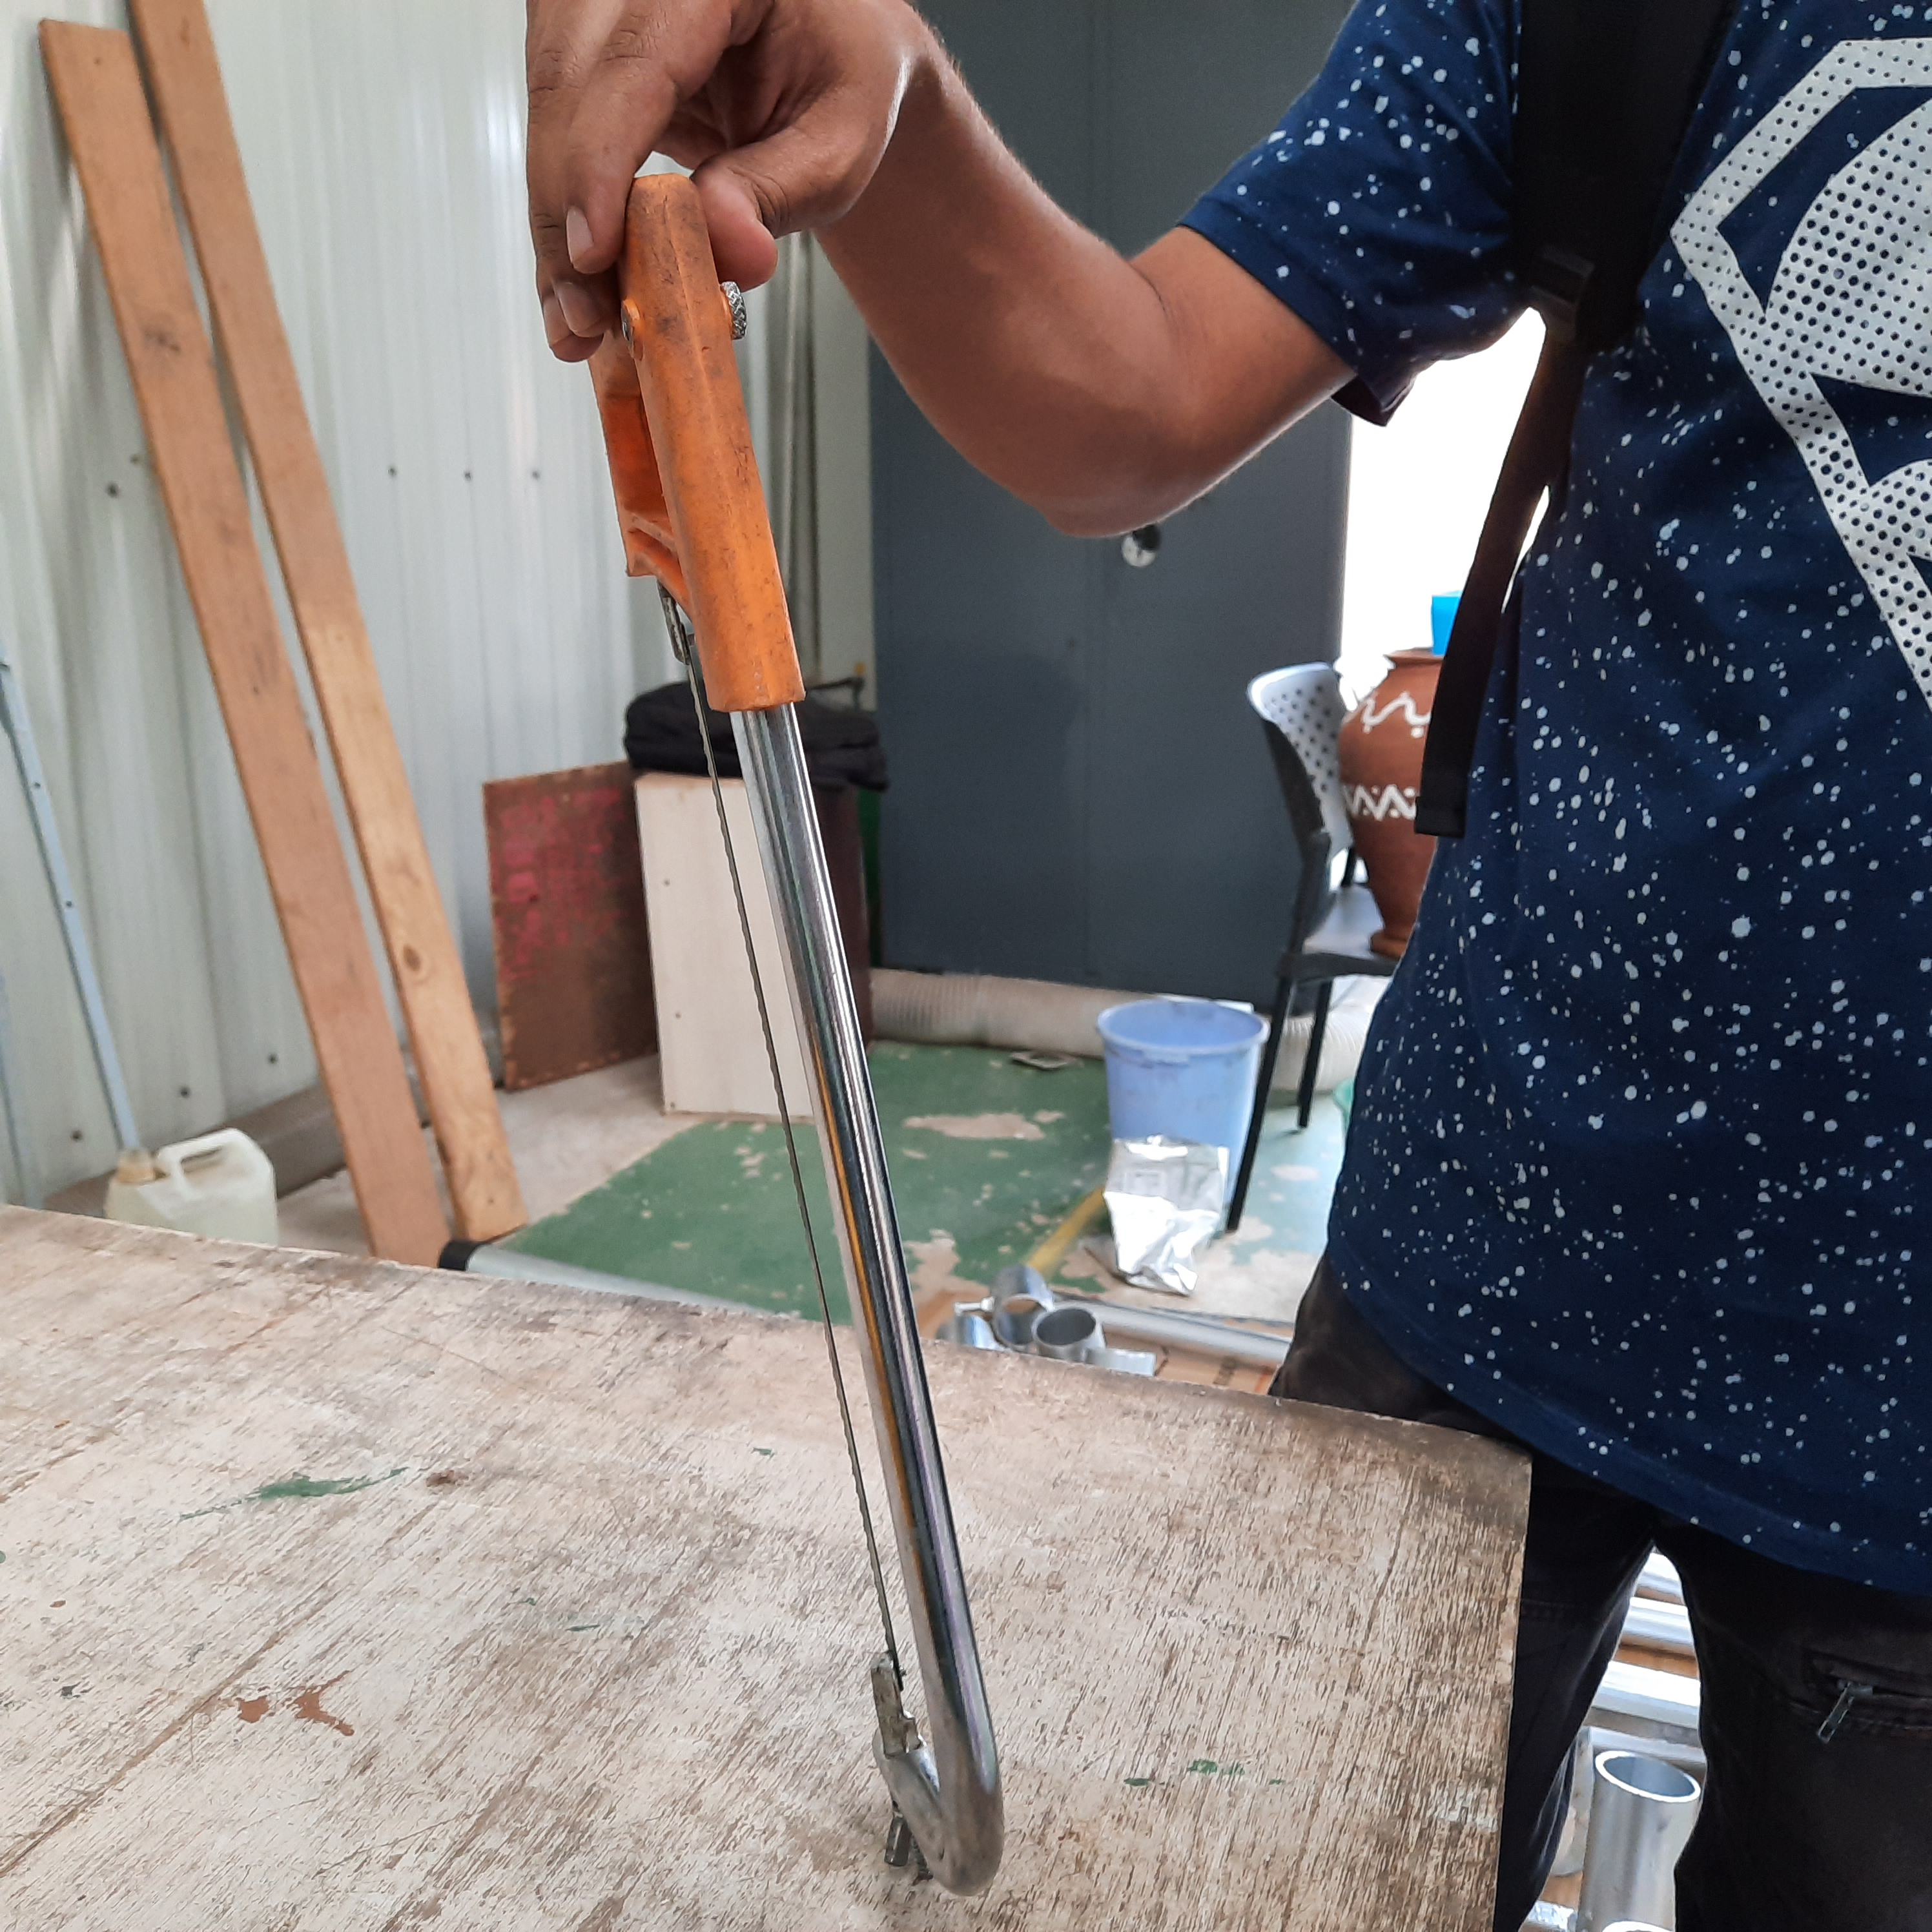Hexaframe: (474, 149, 1168, 1930)
